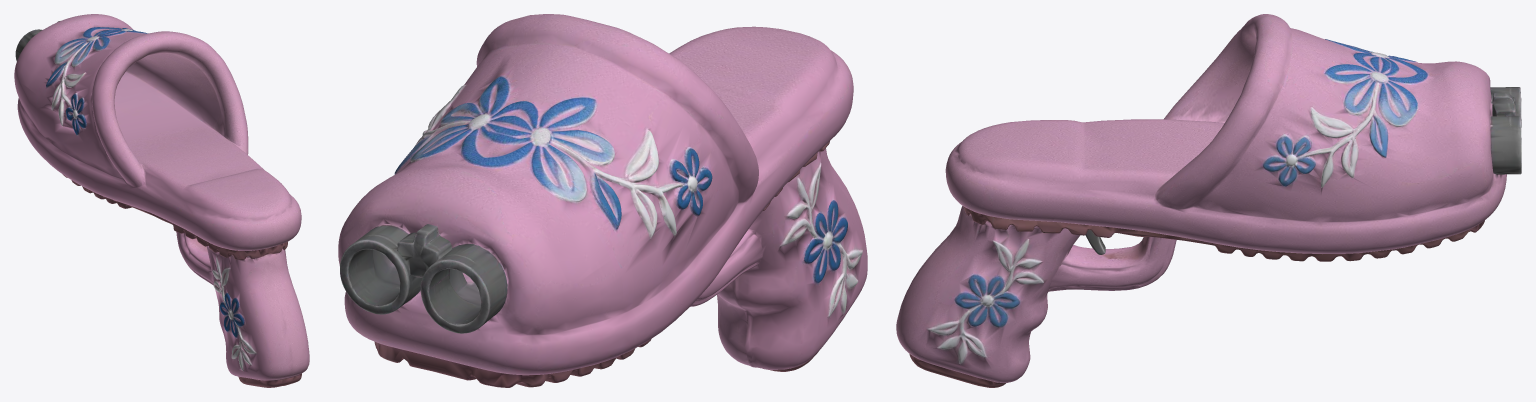
The model's file is sawed_terlik.glb.
3 renders of one model, left to right at view 1: azimuth 30°, elevation 25°; view 2: azimuth 150°, elevation 25°; view 3: azimuth 270°, elevation 25°, orthographic. The views are drawn at different scales.
Parts seen in each view (by area): view 1: govde; view 2: govde; view 3: govde.
Boxes of the visible parts, box(x1,y1,x2,y2) form: govde: box(14, 14, 309, 387); govde: box(338, 14, 867, 387); govde: box(896, 14, 1521, 387).
Bounding box in the file's own units: 0.1339 × 0.2397 × 0.3838.
1 material, 1 textured.
